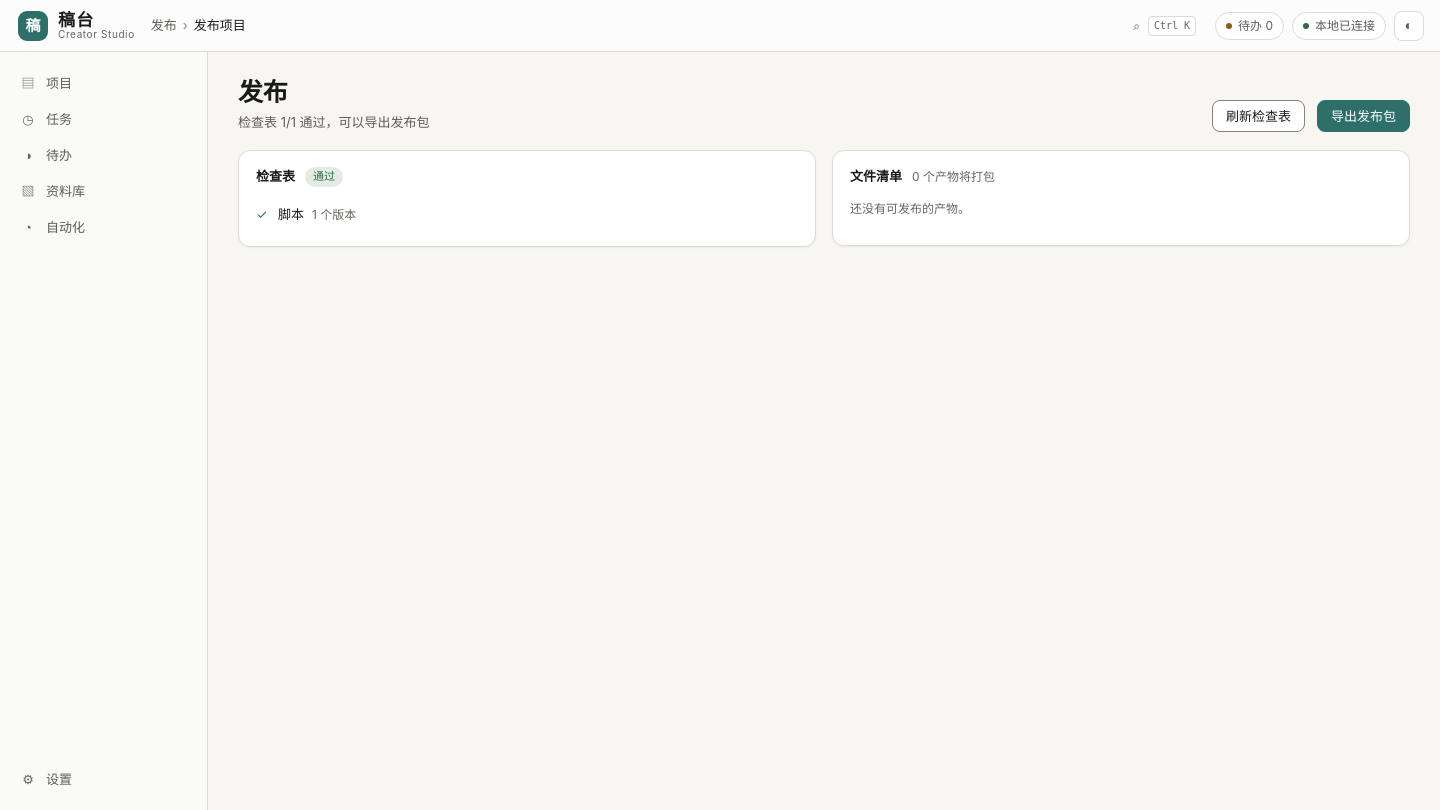
it: publish page › exports when the checklist passes
Click the button "导出发布包" at point(1364, 116), box [1317,100,1410,132]
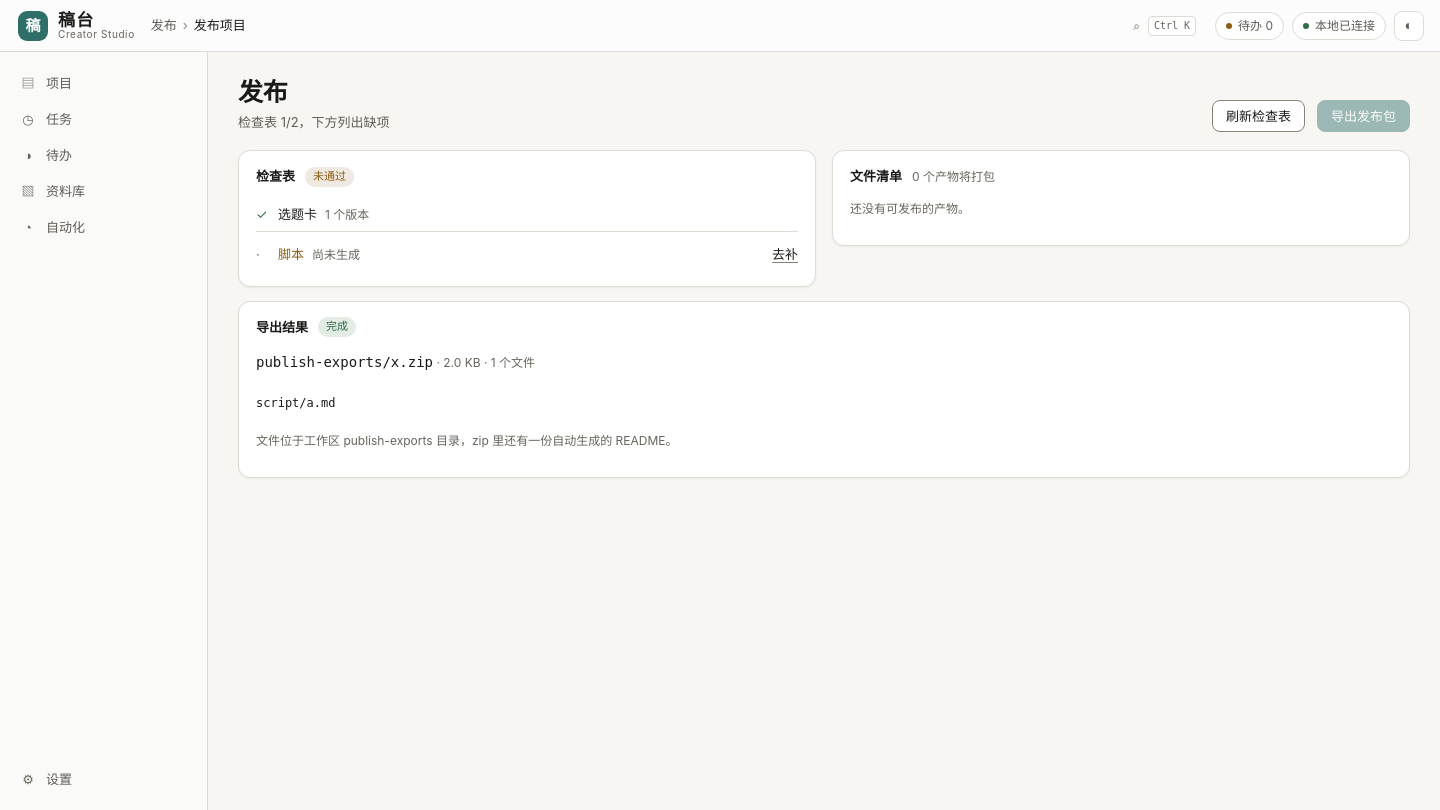
Expected: the text "publish-exports/x.zip" is shown, [256,354,433,370]
